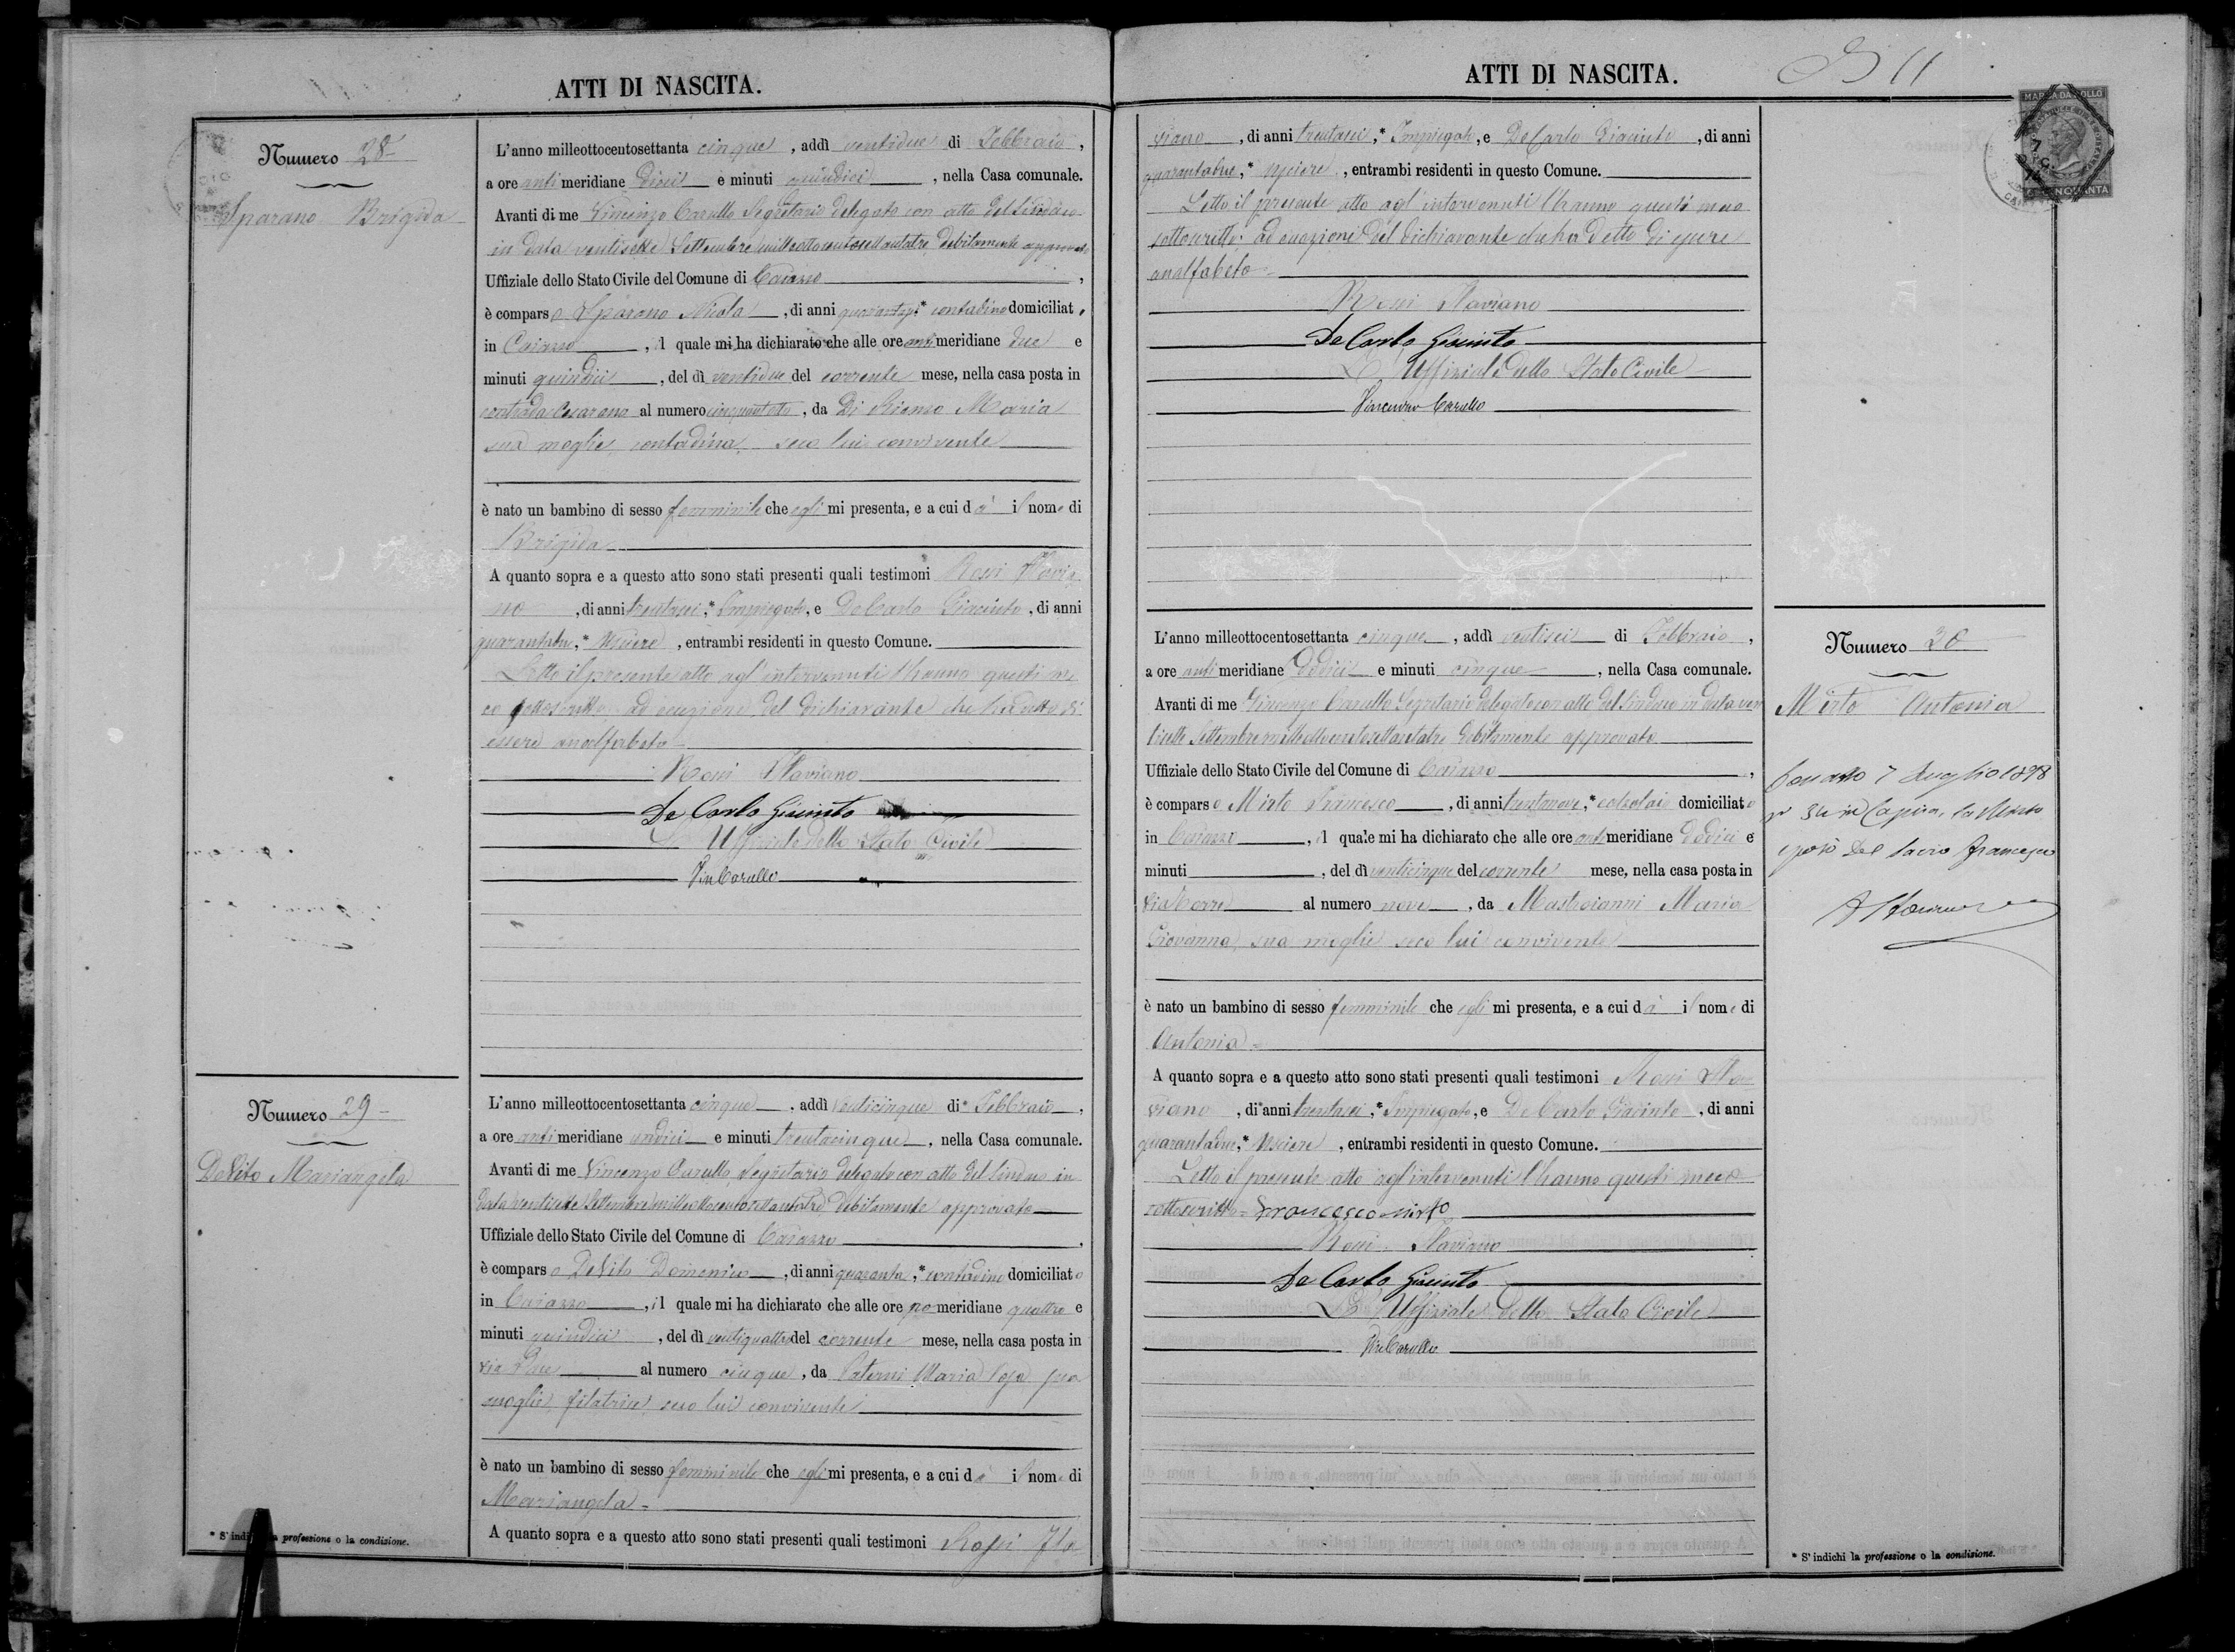Handwriting: (470, 1187, 1046, 1236), (1161, 1156, 1756, 1203), (1147, 219, 1749, 264), (488, 689, 1088, 734), (482, 658, 1081, 701), (1133, 914, 1626, 967), (1230, 682, 1760, 727), (588, 191, 1090, 238), (488, 229, 1088, 264), (1178, 186, 1742, 222), (475, 427, 1013, 465), (580, 1152, 1072, 1192), (642, 817, 1017, 866), (1147, 718, 1657, 753), (481, 1388, 876, 1432), (213, 191, 460, 259), (1324, 347, 1701, 390), (628, 583, 1032, 623), (831, 1348, 1093, 1407), (1300, 1286, 1730, 1321), (193, 1145, 425, 1209), (1768, 680, 2030, 727), (637, 784, 882, 833), (1268, 1253, 1510, 1298), (1307, 314, 1550, 357), (548, 292, 762, 338), (937, 1520, 1088, 1581), (1319, 278, 1537, 319), (477, 725, 680, 769), (652, 748, 880, 786), (1294, 1215, 1503, 1256), (1144, 1196, 1471, 1220), (1506, 885, 1754, 916), (548, 1251, 770, 1286), (481, 1478, 649, 1522), (1498, 115, 1678, 154), (1218, 781, 1399, 819), (935, 548, 1085, 593), (491, 519, 619, 569), (1499, 1088, 1685, 1123), (831, 392, 1078, 418), (1350, 382, 1515, 420), (652, 493, 776, 540), (1142, 250, 1256, 300), (1609, 1050, 1756, 1088), (772, 1118, 914, 1156), (1314, 989, 1428, 1034), (1131, 1121, 1242, 1166), (460, 626, 576, 668), (482, 394, 633, 425), (521, 351, 618, 397), (779, 158, 880, 203), (521, 1317, 625, 1359), (1144, 1020, 1265, 1055), (1378, 1090, 1473, 1133), (474, 1343, 573, 1383), (687, 857, 791, 894), (661, 1458, 764, 1494), (1912, 623, 2025, 654), (753, 1215, 849, 1251), (1399, 111, 1475, 154), (1452, 656, 1562, 685), (1142, 885, 1230, 921), (1244, 1121, 1329, 1157), (1636, 614, 1735, 646), (682, 1088, 770, 1123), (829, 1258, 913, 1295), (501, 1281, 588, 1315), (833, 298, 918, 333), (1147, 118, 1235, 151), (698, 132, 781, 167), (965, 1088, 1057, 1119), (1350, 623, 1445, 652), (705, 1324, 790, 1357), (1291, 113, 1376, 146), (1355, 1327, 1440, 1360), (1289, 646, 1369, 680), (975, 123, 1069, 153), (710, 397, 803, 427), (1142, 163, 1239, 191), (1503, 786, 1584, 819), (1675, 816, 1744, 854), (1291, 1090, 1371, 1123), (823, 361, 914, 389), (590, 621, 675, 651), (351, 125, 406, 170), (1475, 854, 1565, 882), (744, 257, 824, 288), (842, 128, 941, 153), (996, 1296, 1069, 1329), (831, 1095, 937, 1118), (930, 290, 1006, 321), (717, 1359, 802, 1386), (1414, 753, 1499, 781), (921, 1258, 1005, 1286), (1373, 857, 1456, 885), (1260, 156, 1333, 187), (1166, 817, 1242, 847), (626, 158, 691, 193), (630, 1114, 694, 1149), (1494, 625, 1589, 647), (713, 361, 786, 390), (333, 1088, 380, 1133), (1596, 790, 1671, 817), (501, 330, 580, 356), (1451, 991, 1494, 1038), (816, 1327, 906, 1348), (786, 493, 833, 533), (793, 1458, 826, 1508), (1378, 890, 1433, 920), (1147, 1098, 1213, 1121), (1006, 324, 1059, 351), (515, 1121, 559, 1145), (1017, 489, 1045, 526), (519, 172, 559, 196), (491, 600, 533, 623), (1185, 658, 1222, 680), (902, 1296, 932, 1324), (973, 493, 998, 522), (904, 331, 939, 351), (1576, 828, 1607, 849), (1642, 993, 1661, 1015), (1690, 991, 1704, 1019), (1732, 1001, 1739, 1013)
